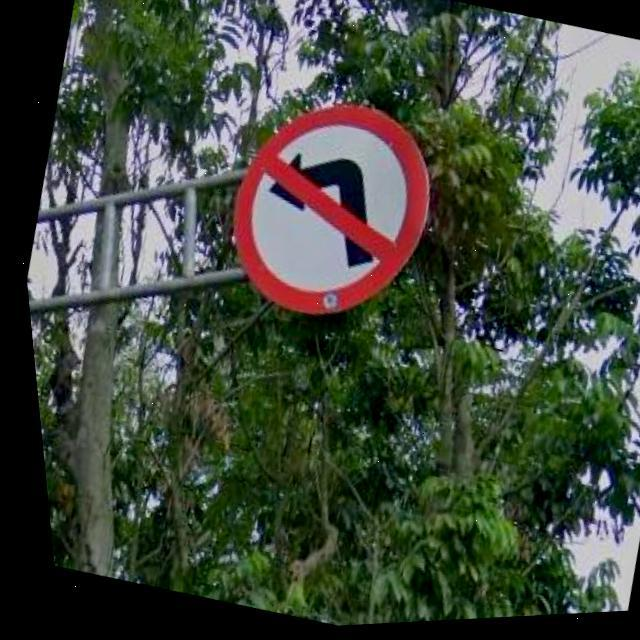Dilarang Belok Kiri: (201, 82, 452, 340)
